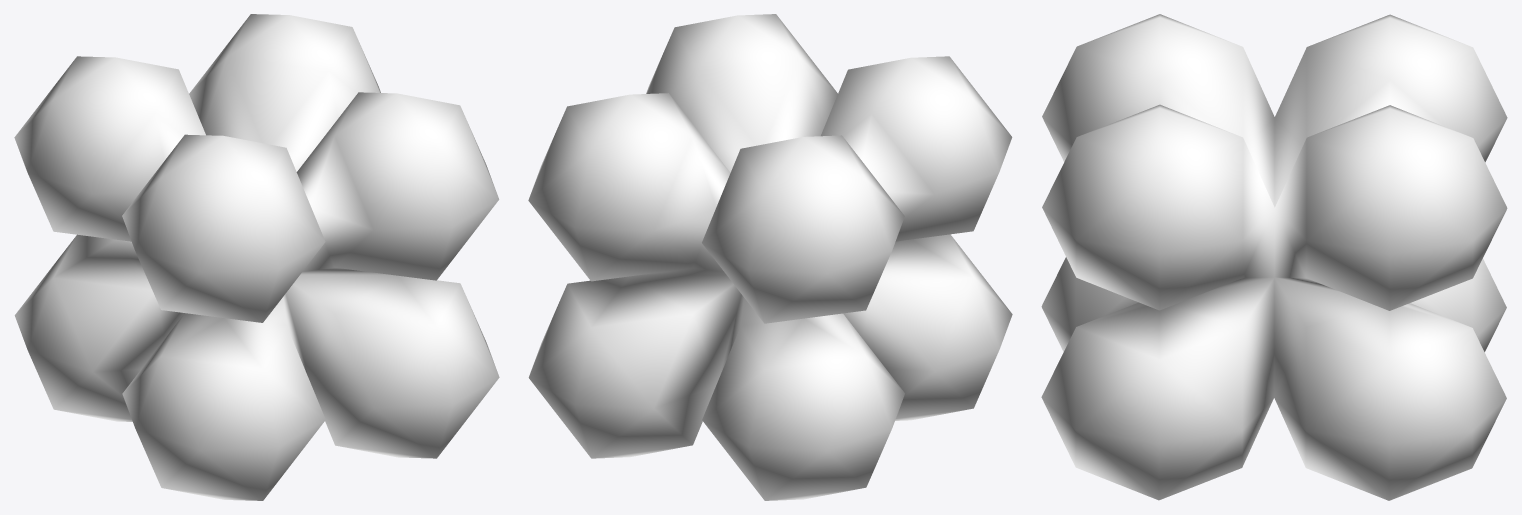
The model's file is clowdy.FBX.
3 renders of one model, left to right at view 1: azimuth 30°, elevation 25°; view 2: azimuth 150°, elevation 25°; view 3: azimuth 270°, elevation 25°, orthographic. The views are drawn at different scales.
Visible parts, largest first — view 1: GeoSphere006; view 2: GeoSphere006; view 3: GeoSphere006.
Boxes of the visible parts, <box> form: GeoSphere006: <box>14,14,499,500</box>; GeoSphere006: <box>528,14,1012,500</box>; GeoSphere006: <box>1041,14,1507,500</box>.
Bounding box in the file's own units: 10.3 × 10.2 × 11.07.
